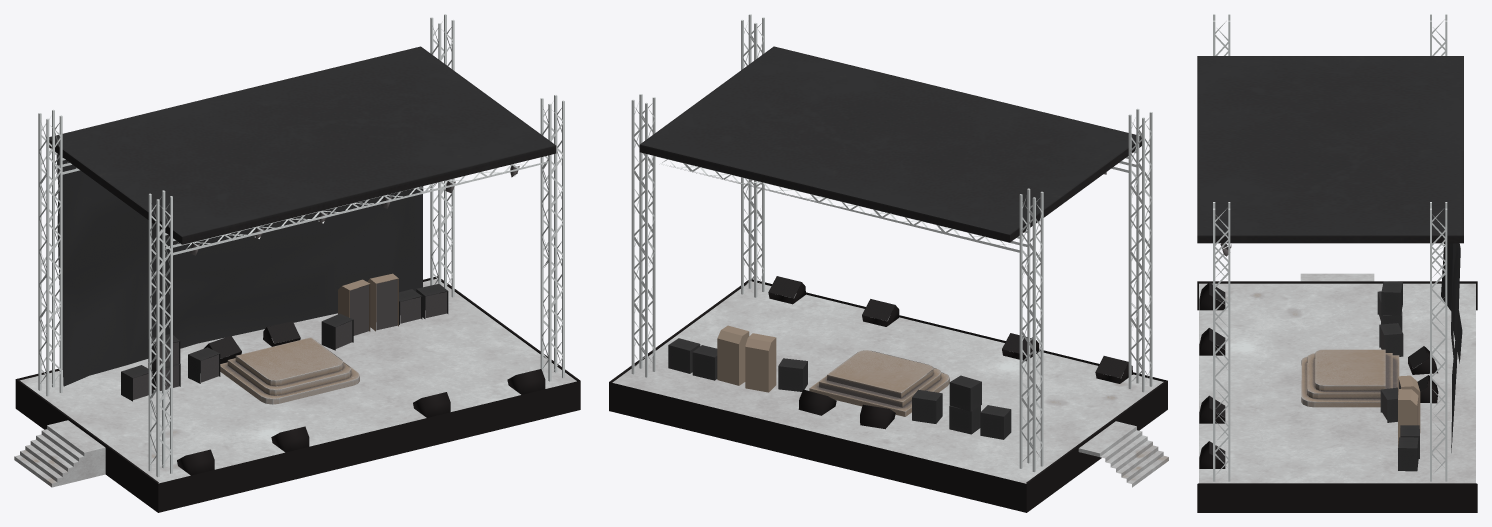
3 renders of one model, left to right at view 1: azimuth 30°, elevation 25°; view 2: azimuth 150°, elevation 25°; view 3: azimuth 270°, elevation 25°, orthographic.
Parts seen in each view (by area): view 1: concert-stage.main.final; view 2: concert-stage.main.final; view 3: concert-stage.main.final.
Boxes of the visible parts, <box> form: concert-stage.main.final: <box>14,14,580,512</box>; concert-stage.main.final: <box>609,14,1168,512</box>; concert-stage.main.final: <box>1197,14,1477,512</box>.
Size of the model in its own units: 2202 by 1348 by 1143.
1 material, 1 textured.
